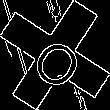O_NE: (23, 22, 87, 88)
